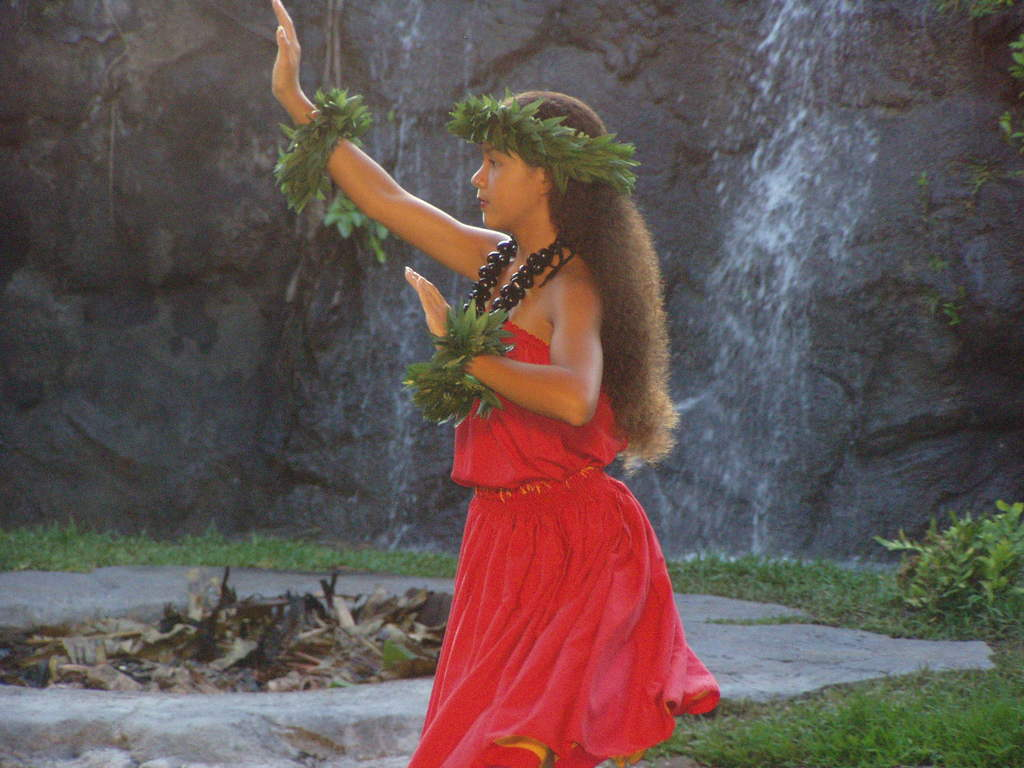face: (469, 126, 548, 227)
